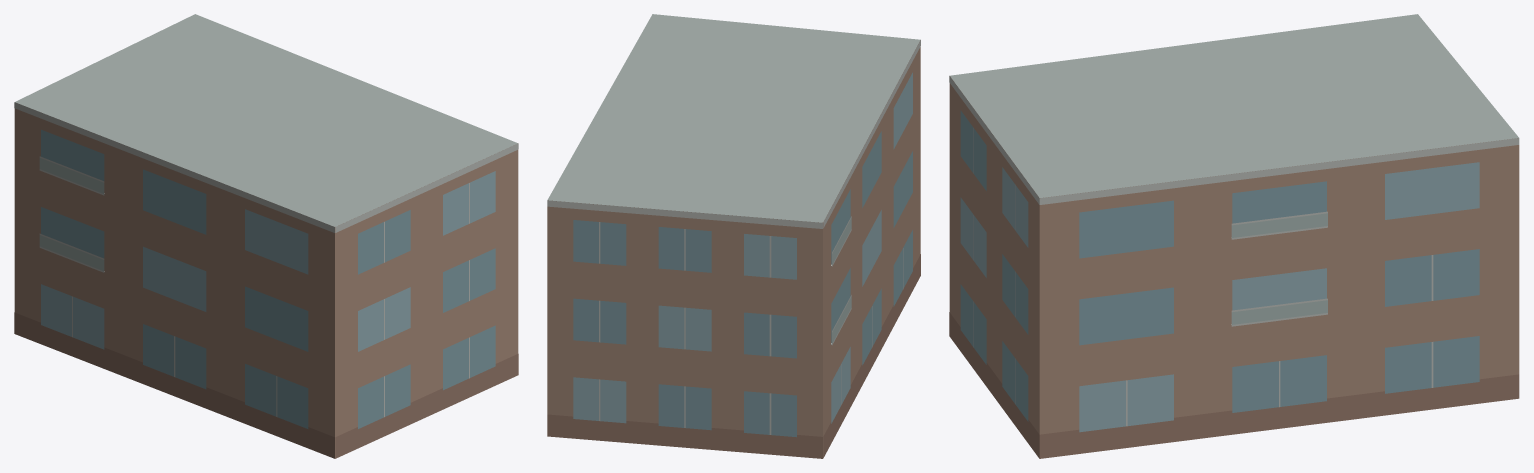
File: survey-upis-32994236.glb
3 views of the same model, side by side, from view 1: azimuth 30°, elevation 25°; view 2: azimuth 150°, elevation 25°; view 3: azimuth 270°, elevation 25° (orthographic). The views are drawn at different scales.
Visible parts, largest first — view 1: survey-upis-32994236.tmp; view 2: survey-upis-32994236.tmp; view 3: survey-upis-32994236.tmp.
Boxes of the visible parts, box(x1,y1,x2,y2) form: survey-upis-32994236.tmp: box(14, 14, 518, 458); survey-upis-32994236.tmp: box(547, 14, 920, 458); survey-upis-32994236.tmp: box(949, 14, 1519, 458).
Bounding box in the file's own units: 13.87 × 9.15 × 18.13.
